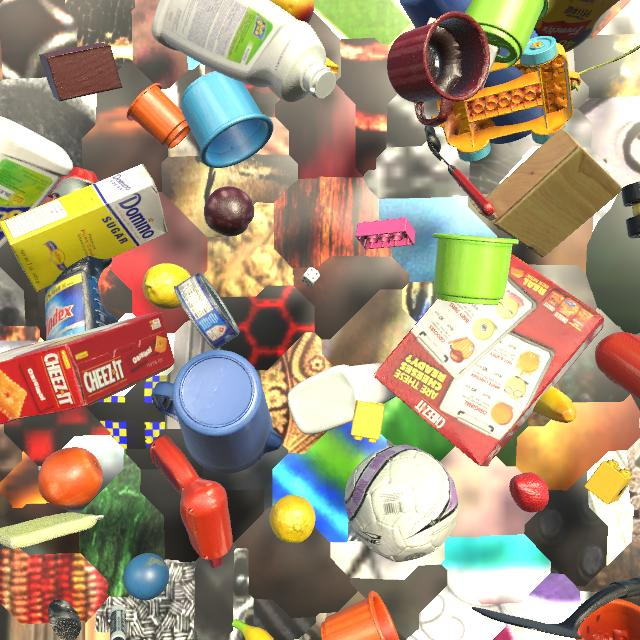ycb_003_cracker_box: (374, 254, 604, 467), (0, 312, 175, 424)
ycb_004_sugar_box: (0, 164, 168, 292), (427, 17, 498, 91)
ycb_006_mustard_bottle: (534, 0, 620, 53)
ycb_007_tuna_fish_can: (174, 273, 240, 350)
ycb_011_banana: (533, 386, 577, 423), (232, 618, 274, 640)
ycb_012_strawberry: (509, 472, 549, 512)
ycb_014_lemon: (142, 263, 191, 309), (269, 495, 315, 543)
ycb_015_peach: (269, 0, 314, 23)
ycb_017_orange: (38, 447, 103, 508)
ycb_018_plum: (204, 186, 255, 236)
